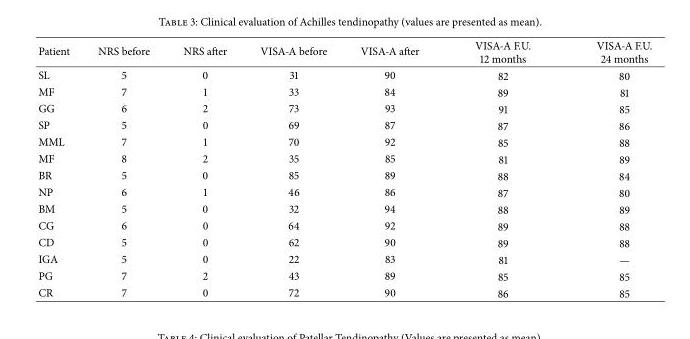table: (37, 37, 651, 300)
table column: (446, 37, 562, 300), (343, 37, 446, 300), (242, 37, 343, 300), (562, 37, 651, 300), (83, 37, 165, 300), (165, 37, 242, 300), (37, 37, 83, 300)
table column header: (37, 37, 651, 66)
table row: (37, 37, 651, 66), (37, 66, 651, 83), (37, 99, 651, 116), (37, 116, 651, 133), (37, 133, 651, 150), (37, 166, 651, 183), (37, 183, 651, 200), (37, 200, 651, 217), (37, 233, 651, 250), (37, 250, 651, 267), (37, 267, 651, 284), (37, 83, 651, 99), (37, 150, 651, 166), (37, 217, 651, 233), (37, 284, 651, 300)
